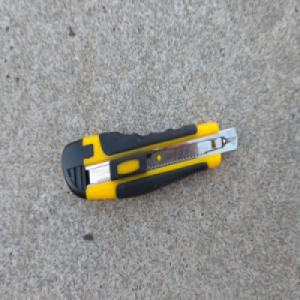Cutter: (60, 120, 238, 201)
